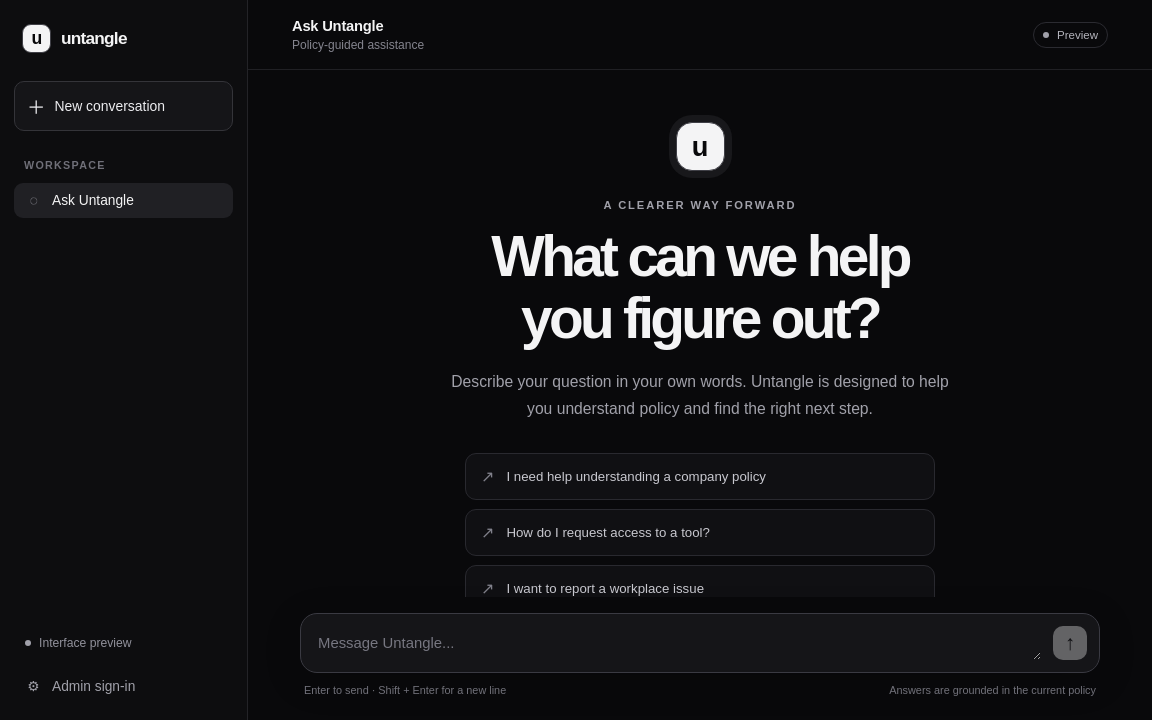
Test: User mode › renders a safe empty-evidence answer without source labels
Type "Question" into the text box labelled "Message Untangle" at (680, 643), box x1=318 y1=627 x2=1041 y2=660
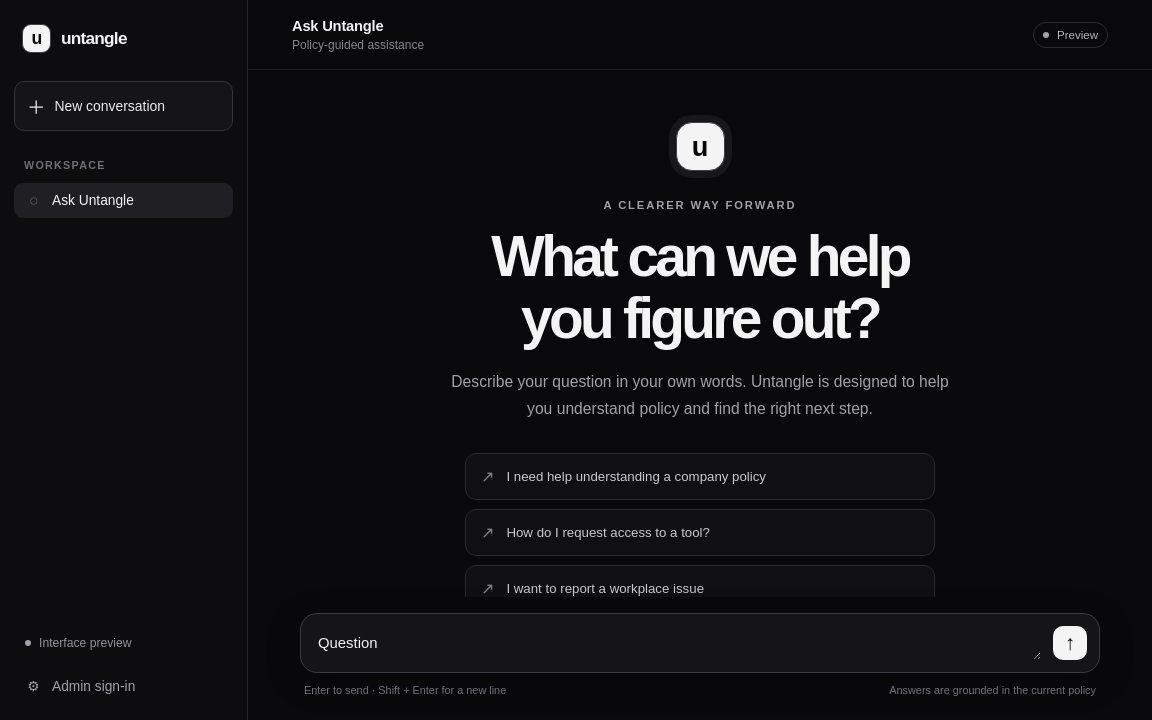
Click the button named "Send message" at (1070, 643), box x1=1053 y1=626 x2=1087 y2=660
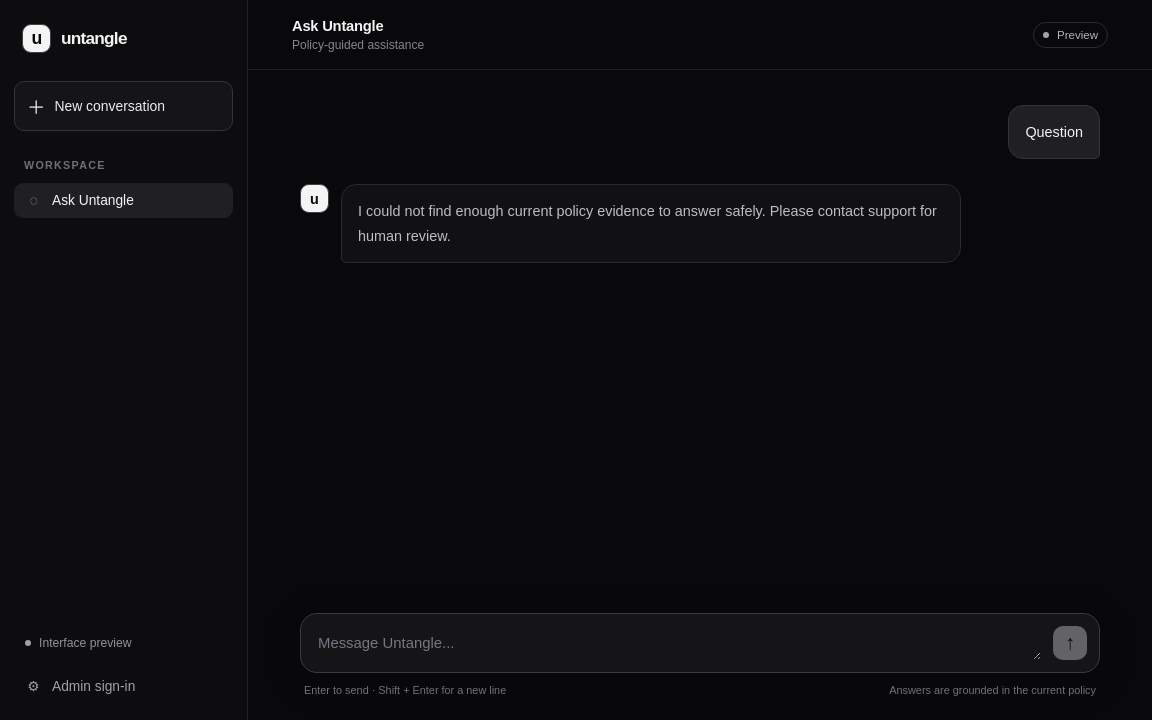
Result: the text "could not find enough current policy evidence" is shown at x1=358 y1=204 x2=941 y2=244
